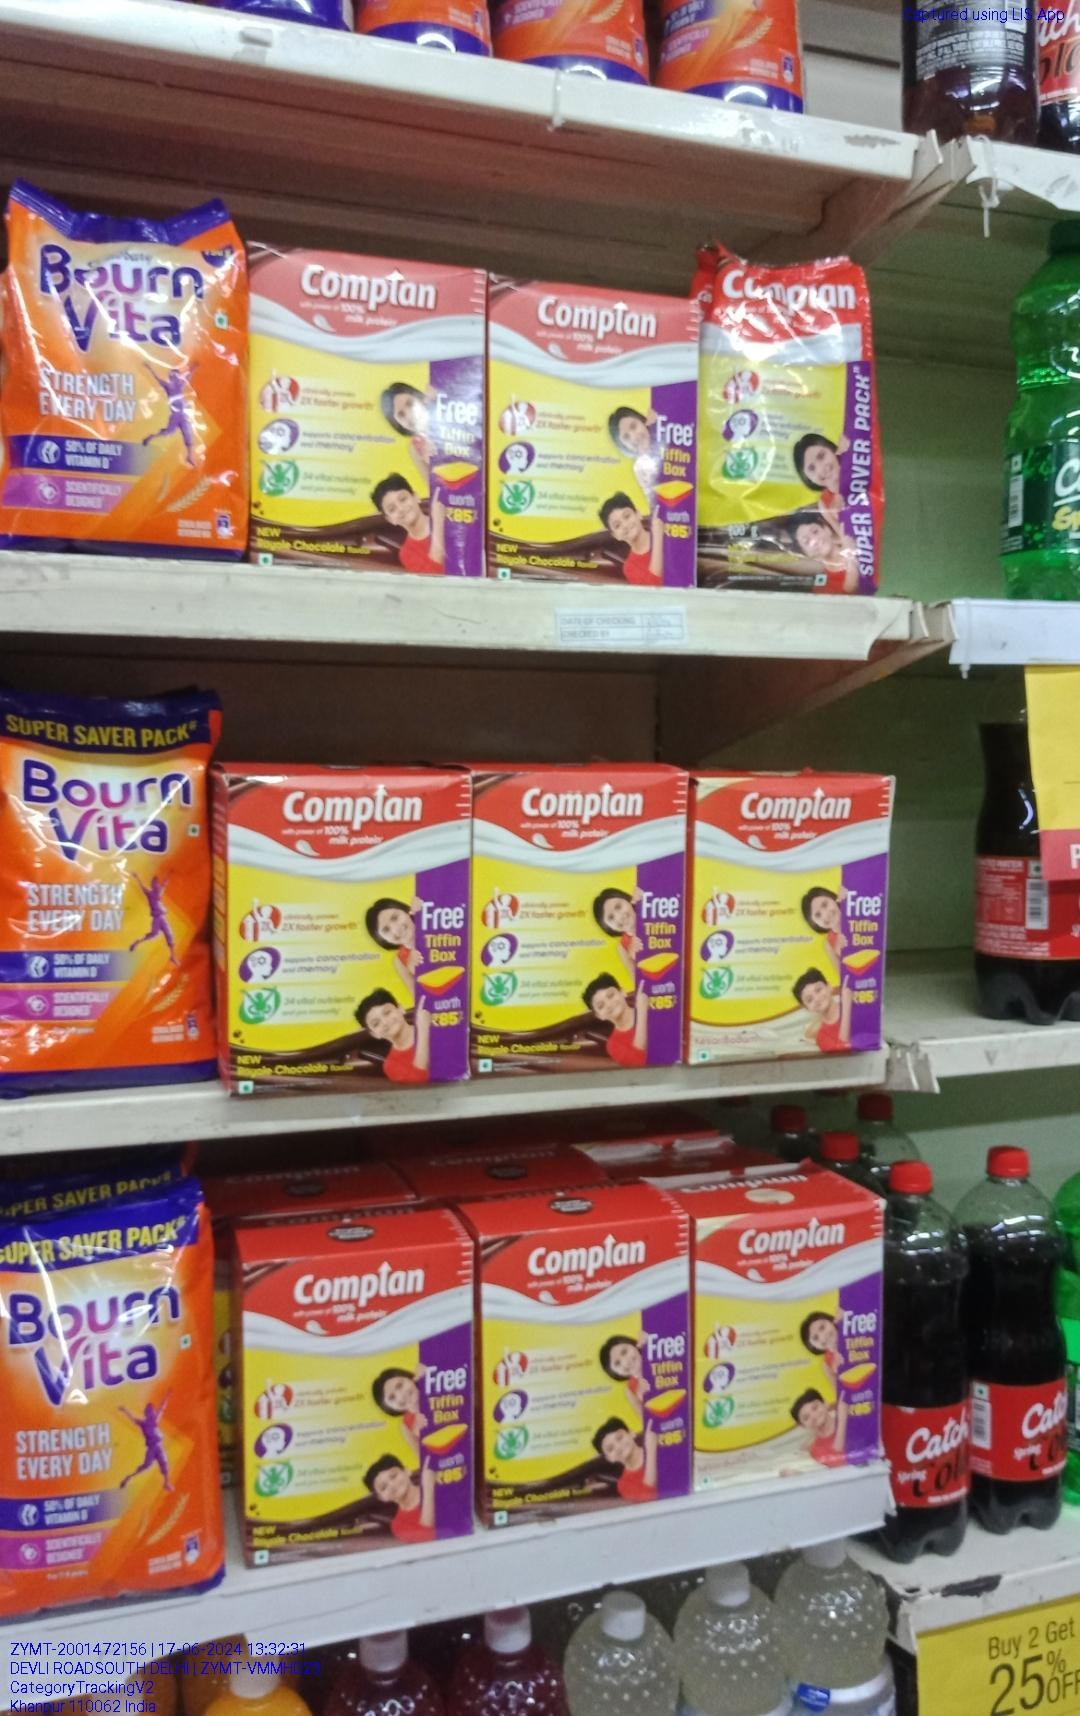BOURN_VITA_1_KG_POUCH: (0, 1208, 219, 1600), (1, 698, 213, 1090)
BOURN_VITA_750_G_POUCH: (5, 189, 235, 557)
COMPLAN_CHOCOLATE_500_GMS_PACK: (249, 248, 488, 570), (228, 776, 469, 1090), (243, 1264, 474, 1560), (479, 769, 684, 1069), (494, 281, 696, 584), (483, 1234, 688, 1507)
COMPLAN_KESAR_BADAM_500_GMS_PACK: (693, 781, 878, 1060), (696, 1219, 882, 1487)
COMPLAN_RC_POUCH_700_GMS_12: (702, 246, 880, 592)
